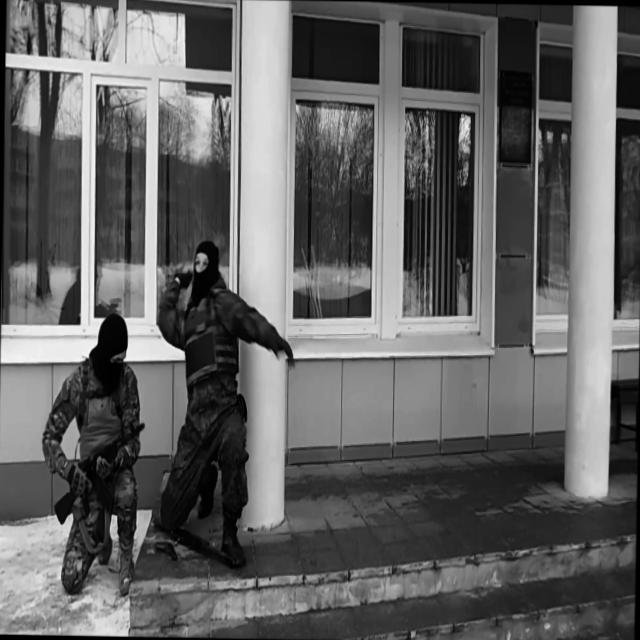gun: (52, 418, 146, 528), (152, 511, 240, 569), (164, 263, 196, 308), (153, 537, 179, 564)
person with a gun: (152, 234, 283, 582), (36, 309, 148, 598)
